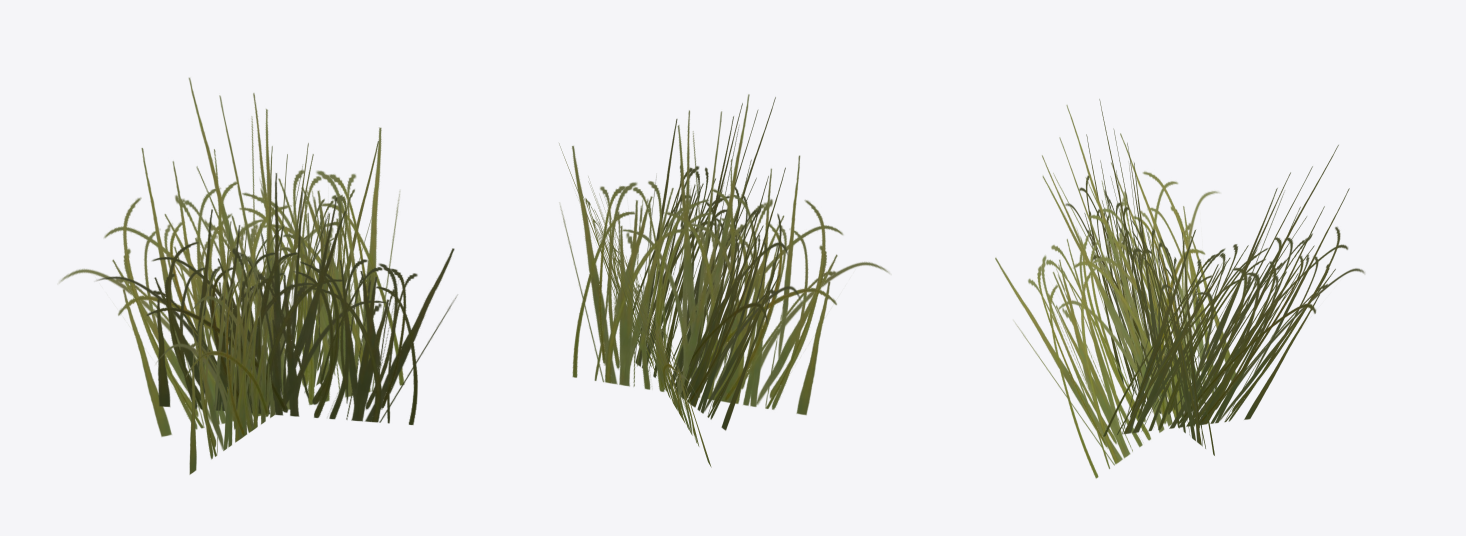
The model's file is grass_model-transformed.glb.
The picture shows the model from 3 angles, left to right: view 1: azimuth 30°, elevation 25°; view 2: azimuth 150°, elevation 25°; view 3: azimuth 270°, elevation 25°; orthographic projection. The views are drawn at different scales.
Visible parts, largest first — view 1: grass.001; view 2: grass.001; view 3: grass.001.
Part boxes in pixels (box(x1,y1,x2,y2)): grass.001: box(59, 77, 457, 474); grass.001: box(559, 94, 889, 467); grass.001: box(995, 99, 1364, 478).
Size of the model in its own units: 1.97 by 2.36 by 2.62.
Materials: 1 (1 with a texture image).
